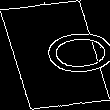O_W: (9, 29, 101, 81)
